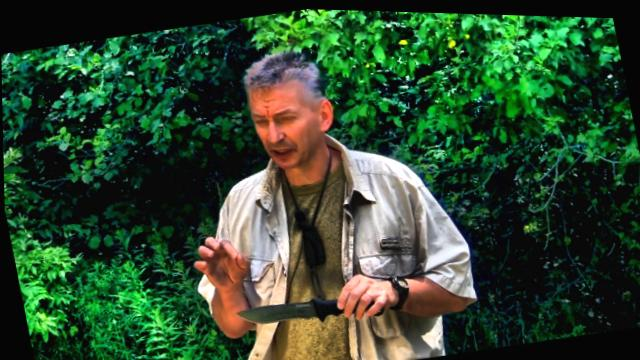knife: (229, 263, 388, 340)
